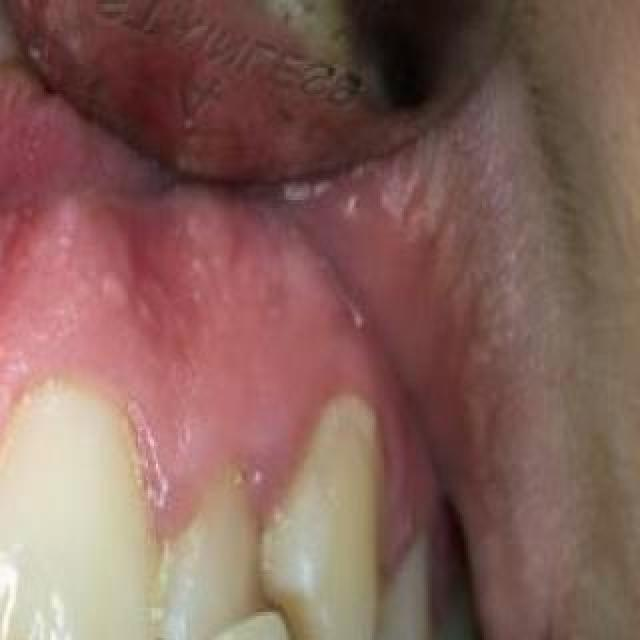maligned: (162, 460, 274, 640), (174, 612, 316, 640)
plaque: (268, 338, 424, 582)
